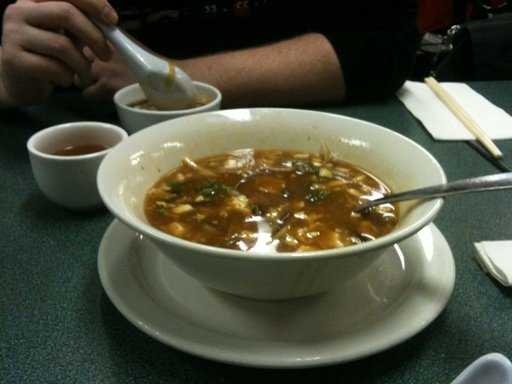soup: (134, 133, 427, 261)
